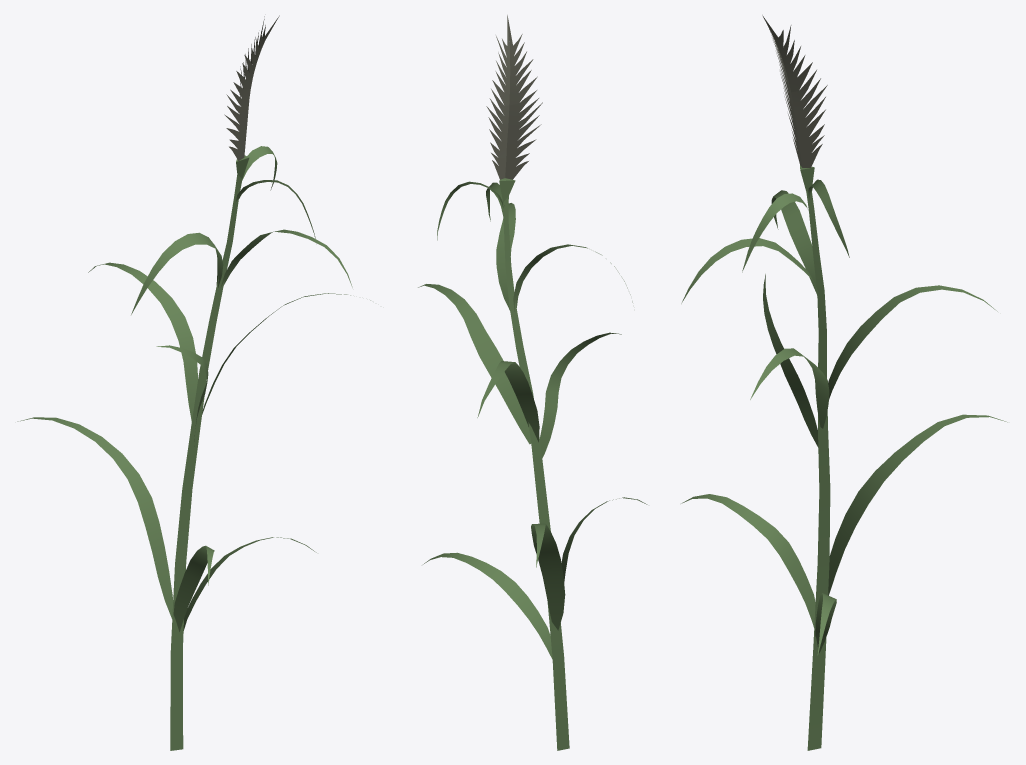
The model's file is plant_pampa_B.fbx.
3 renders of one model, left to right at view 1: azimuth 30°, elevation 25°; view 2: azimuth 150°, elevation 25°; view 3: azimuth 270°, elevation 25°, orthographic. The views are drawn at different scales.
Parts seen in each view (by area): view 1: plant_pampa_B_twig, plant_pampa_B_leaf_H, plant_pampa_B_leaf_E, plant_pampa_B_leaf_flower, plant_pampa_B_leaf_I, plant_pampa_B_leaf_C, plant_pampa_B_leaf_D; view 2: plant_pampa_B_leaf_flower, plant_pampa_B_twig, plant_pampa_B_leaf_F, plant_pampa_B_leaf_H, plant_pampa_B_leaf_J, plant_pampa_B_leaf_E, plant_pampa_B_leaf_G, plant_pampa_B_leaf_D, plant_pampa_B_leaf_C; view 3: plant_pampa_B_twig, plant_pampa_B_leaf_flower, plant_pampa_B_leaf_H, plant_pampa_B_leaf_I, plant_pampa_B_leaf_E, plant_pampa_B_leaf_G, plant_pampa_B_leaf_C, plant_pampa_B_leaf_F, plant_pampa_B_leaf_D, plant_pampa_B_leaf_J, plant_pampa_B_leaf_B, plant_pampa_B_leaf_A.
Boxes of the visible parts, x1,y1,x2,y2 form: plant_pampa_B_twig: [170, 155, 249, 750]; plant_pampa_B_leaf_H: [17, 417, 173, 618]; plant_pampa_B_leaf_E: [88, 262, 198, 421]; plant_pampa_B_leaf_flower: [224, 15, 279, 160]; plant_pampa_B_leaf_I: [173, 545, 214, 631]; plant_pampa_B_leaf_C: [131, 232, 223, 314]; plant_pampa_B_leaf_D: [220, 229, 352, 287]; plant_pampa_B_leaf_flower: [486, 15, 542, 179]; plant_pampa_B_twig: [499, 178, 569, 750]; plant_pampa_B_leaf_F: [418, 284, 530, 444]; plant_pampa_B_leaf_H: [531, 523, 565, 630]; plant_pampa_B_leaf_J: [423, 552, 552, 659]; plant_pampa_B_leaf_E: [477, 361, 539, 442]; plant_pampa_B_leaf_G: [540, 332, 621, 457]; plant_pampa_B_leaf_D: [496, 203, 515, 310]; plant_pampa_B_leaf_C: [513, 244, 632, 311]; plant_pampa_B_twig: [800, 165, 830, 750]; plant_pampa_B_leaf_flower: [762, 15, 827, 167]; plant_pampa_B_leaf_H: [828, 414, 1007, 595]; plant_pampa_B_leaf_I: [681, 494, 815, 627]; plant_pampa_B_leaf_E: [828, 285, 997, 399]; plant_pampa_B_leaf_G: [763, 274, 818, 447]; plant_pampa_B_leaf_C: [771, 190, 816, 293]; plant_pampa_B_leaf_F: [750, 348, 829, 428]; plant_pampa_B_leaf_D: [681, 238, 818, 303]; plant_pampa_B_leaf_J: [815, 593, 836, 655]; plant_pampa_B_leaf_B: [742, 193, 808, 272]; plant_pampa_B_leaf_A: [808, 179, 849, 257].
Bounding box in the file's own units: 71.79 × 202 × 78.33.
